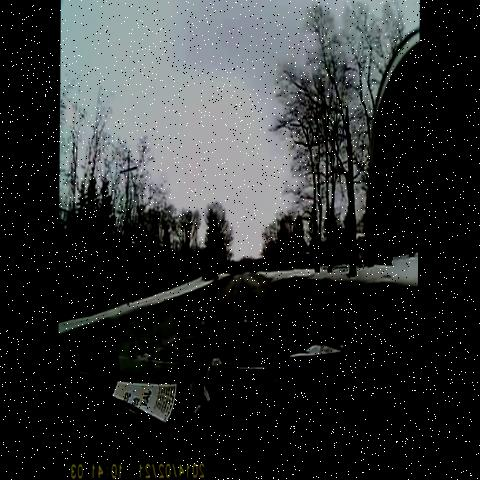pothole: (255, 307, 279, 352), (173, 326, 200, 356), (215, 328, 249, 349), (239, 271, 261, 302)
